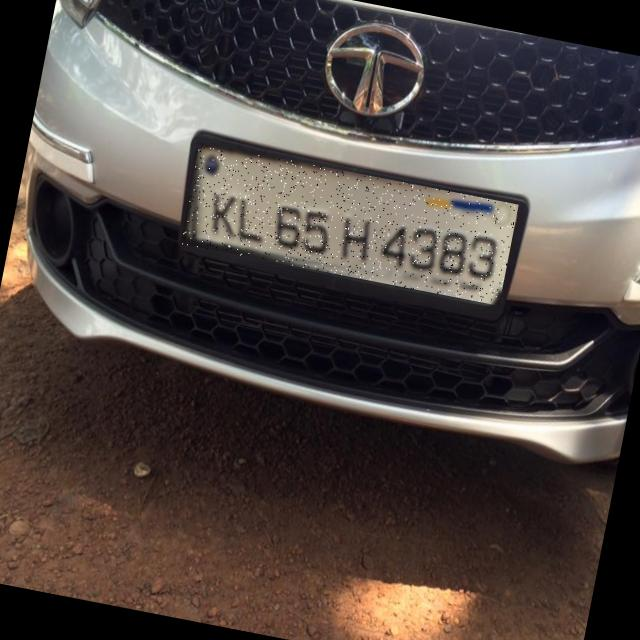Plate: (181, 144, 520, 307)
